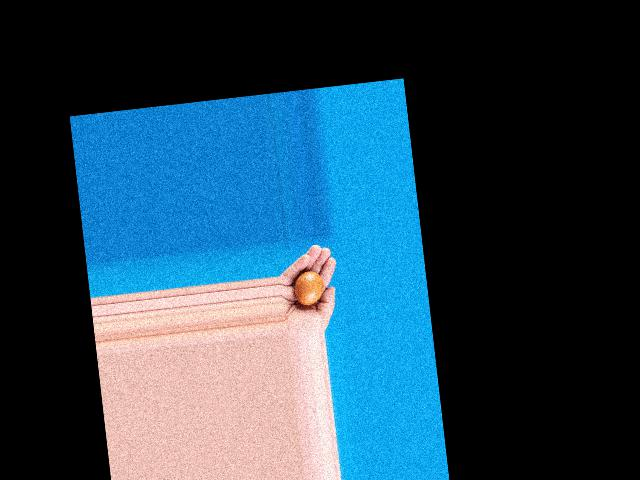egg: (293, 269, 324, 306)
